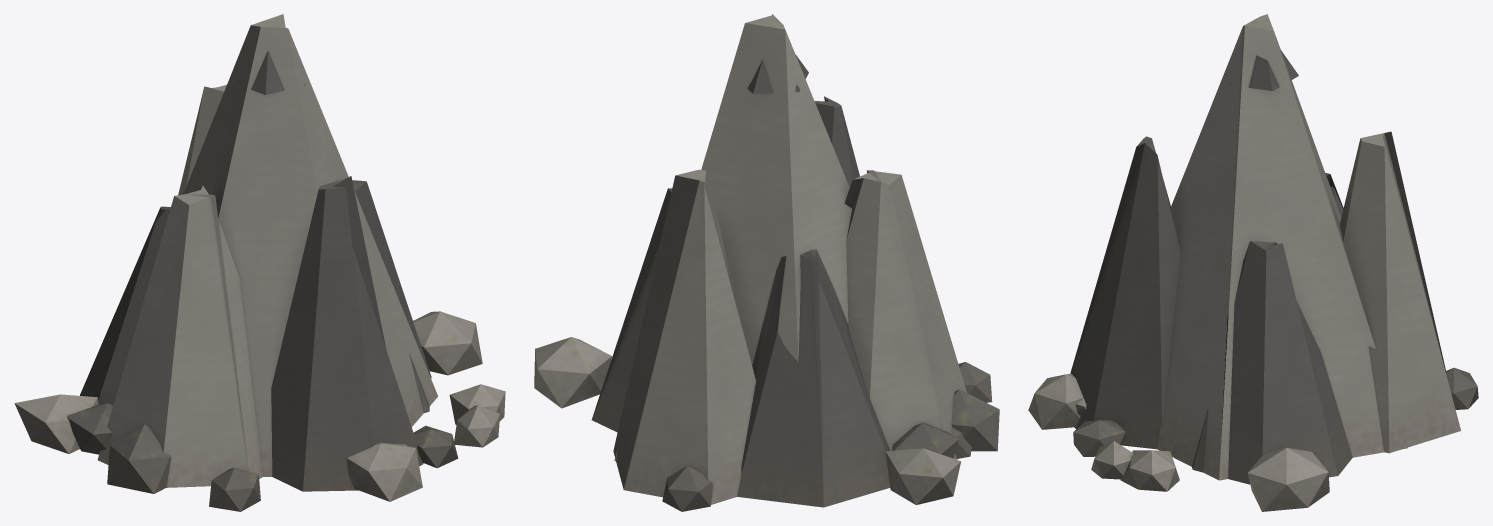
File: montanha_5x5.glb
3 views of the same model, side by side, from view 1: azimuth 30°, elevation 25°; view 2: azimuth 150°, elevation 25°; view 3: azimuth 270°, elevation 25° (orthographic). The views are drawn at different scales.
Parts seen in each view (by area): view 1: montanha_5x5; view 2: montanha_5x5; view 3: montanha_5x5.
Part boxes in pixels (x1,y1,x2,y2): montanha_5x5: [14, 14, 505, 511]; montanha_5x5: [534, 14, 999, 511]; montanha_5x5: [1028, 14, 1478, 511].
Bounding box in the file's own units: 4.81 × 4.2 × 4.42.
1 material, 1 textured.
